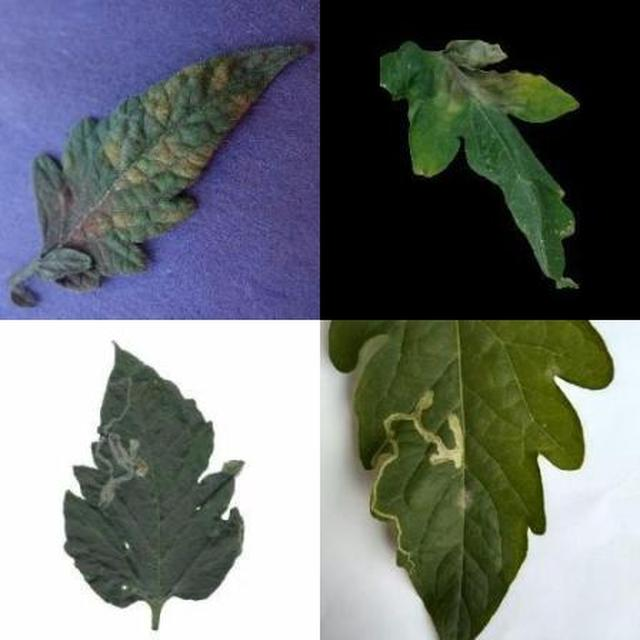Leaf Mold: (222, 236, 640, 640)
